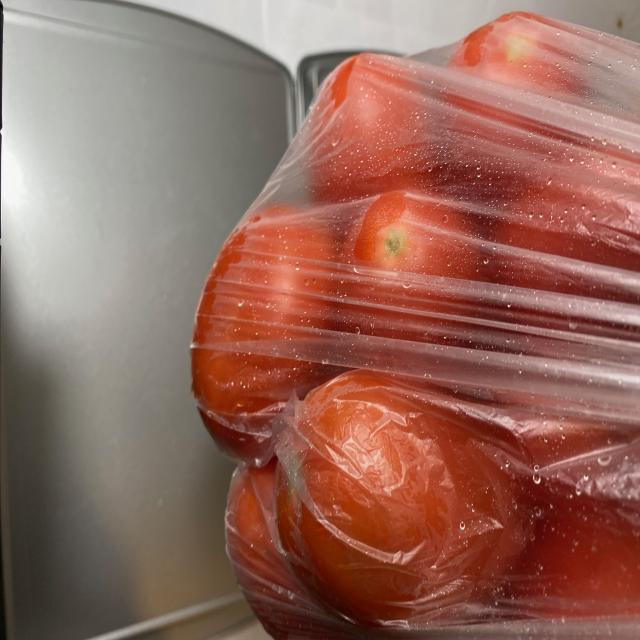tomato: (185, 19, 629, 636)
